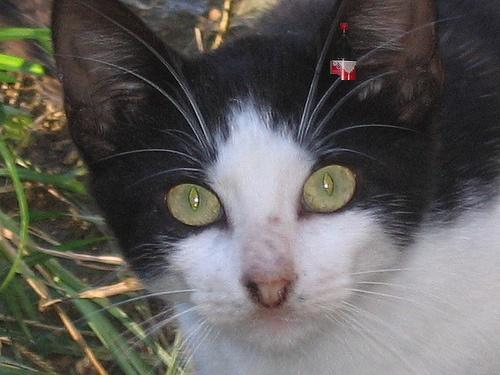tampered: (331, 24, 356, 80)
